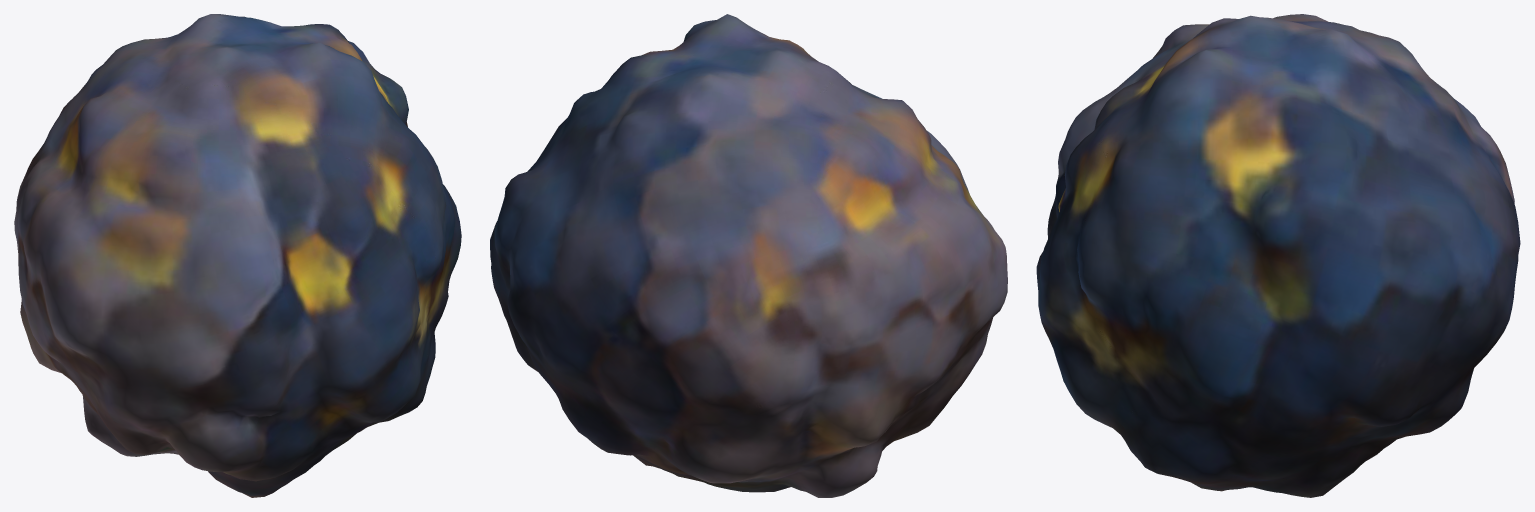
Rendered from hit.glb.
The picture shows the model from 3 angles, left to right: view 1: azimuth 30°, elevation 25°; view 2: azimuth 150°, elevation 25°; view 3: azimuth 270°, elevation 25°; orthographic projection. The views are drawn at different scales.
Visible parts, largest first — view 1: Mesh1; view 2: Mesh1; view 3: Mesh1.
Boxes of the visible parts, x1,y1,x2,y2 form: Mesh1: (14, 14, 461, 497); Mesh1: (490, 14, 1007, 497); Mesh1: (1036, 14, 1520, 497).
Size of what is drawn, in the model's own units: 1.18 by 1.2 by 1.12.
1 material, 1 textured.
